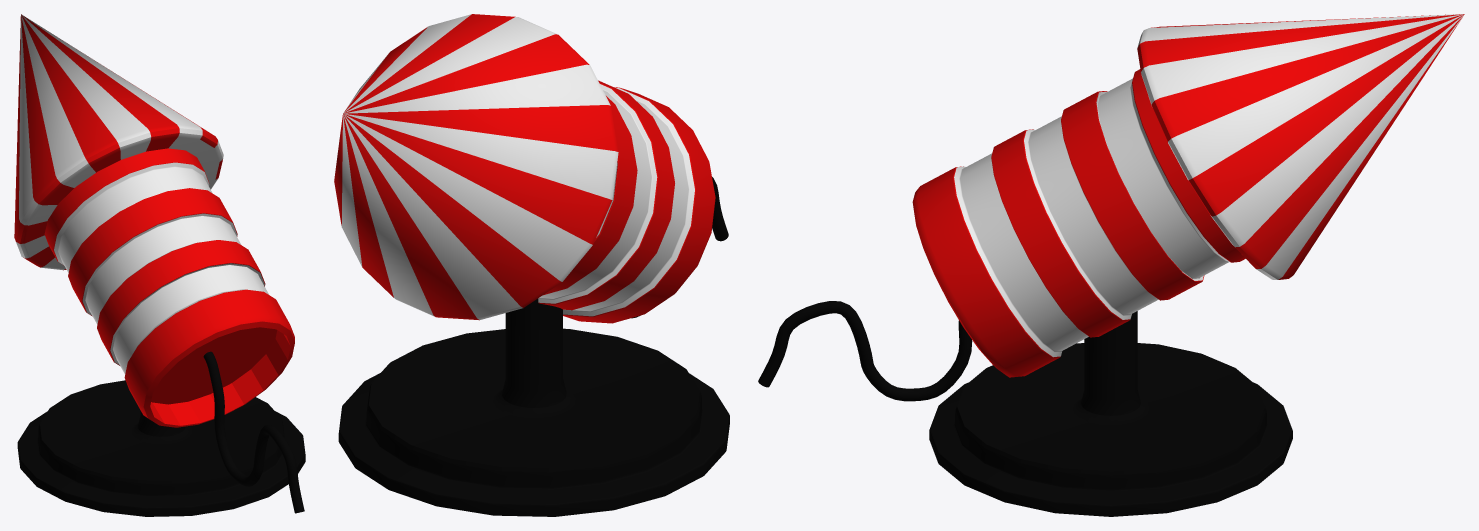
The model's file is feu_artifice.fbx.
The picture shows the model from 3 angles, left to right: view 1: azimuth 30°, elevation 25°; view 2: azimuth 150°, elevation 25°; view 3: azimuth 270°, elevation 25°; orthographic projection. The views are drawn at different scales.
Parts seen in each view (by area): view 1: feu; view 2: feu; view 3: feu.
Boxes of the visible parts, bbox=[...] form: feu: bbox=[14, 14, 305, 516]; feu: bbox=[334, 14, 729, 516]; feu: bbox=[758, 14, 1464, 516].
Bounding box in the file's own units: 2 × 2.59 × 3.89.
